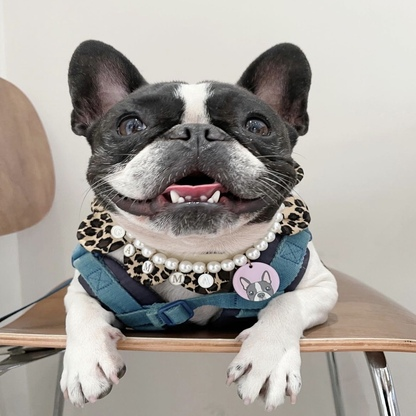bulldog: (58, 37, 341, 411)
